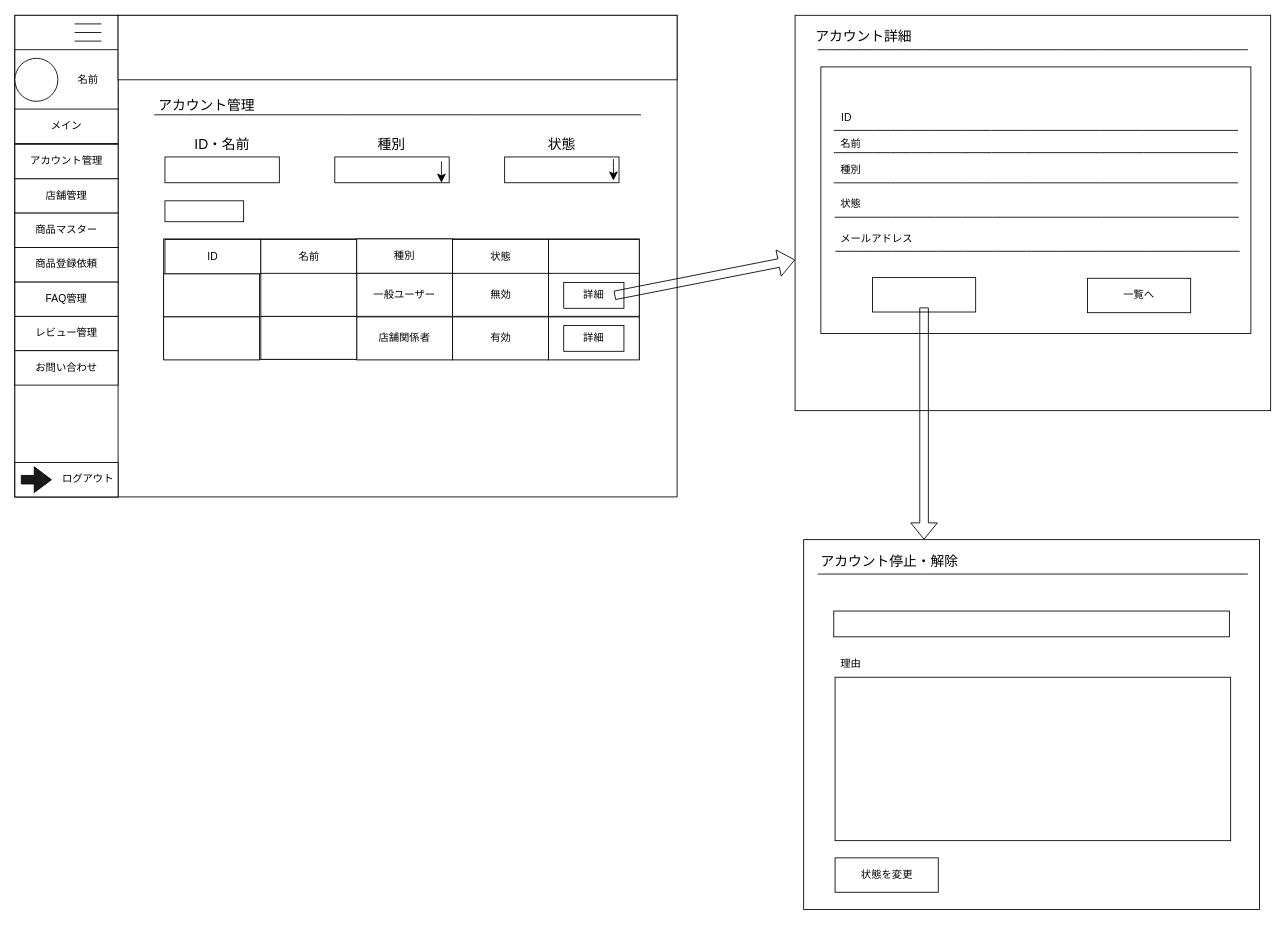
The diagram is 1287 pixels wide and 925 high, and some of its shapes have lost their labels. The shapes that lost their labels are listed below. From the top down, each one's centre as x and y in pixels, then its label:
the point at 204,211: 検索
the point at 924,294: 利用停止・解除
the point at 1031,623: 利用の停止・解除のドロップダウン
